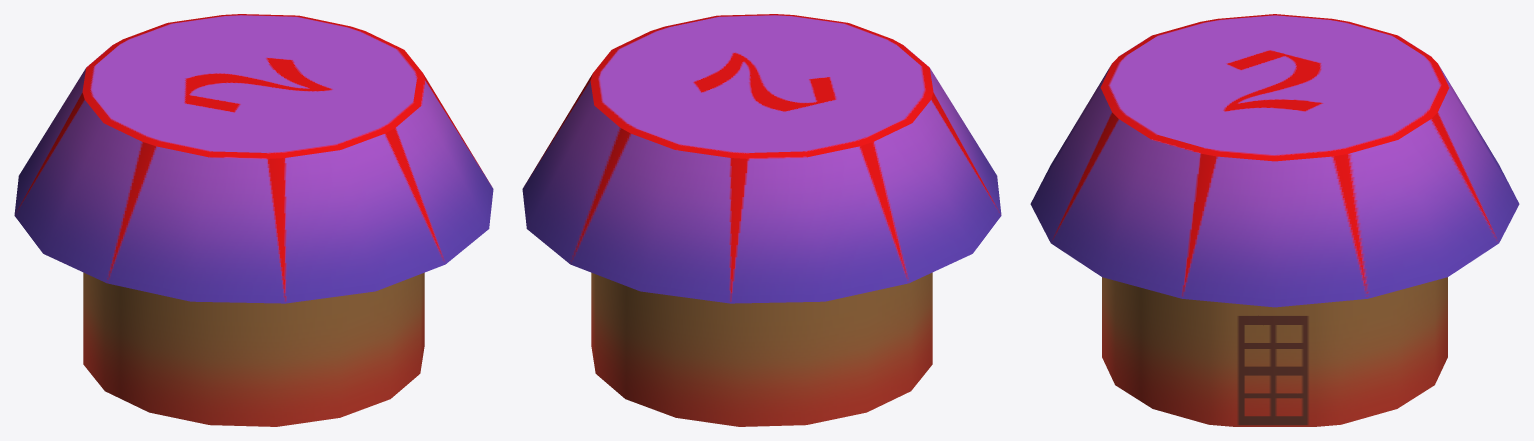
File: house tier 2.fbx
The picture shows the model from 3 angles, left to right: view 1: azimuth 30°, elevation 25°; view 2: azimuth 150°, elevation 25°; view 3: azimuth 270°, elevation 25°; orthographic projection.
Parts seen in each view (by area): view 1: tier 2; view 2: tier 2; view 3: tier 2.
Boxes of the visible parts, box(x1,y1,x2,y2) form: tier 2: box(14, 14, 493, 426); tier 2: box(522, 14, 1001, 426); tier 2: box(1030, 14, 1519, 426).
Bounding box in the file's own units: 485 × 298 × 485.
Materials: 1 (1 with a texture image).
